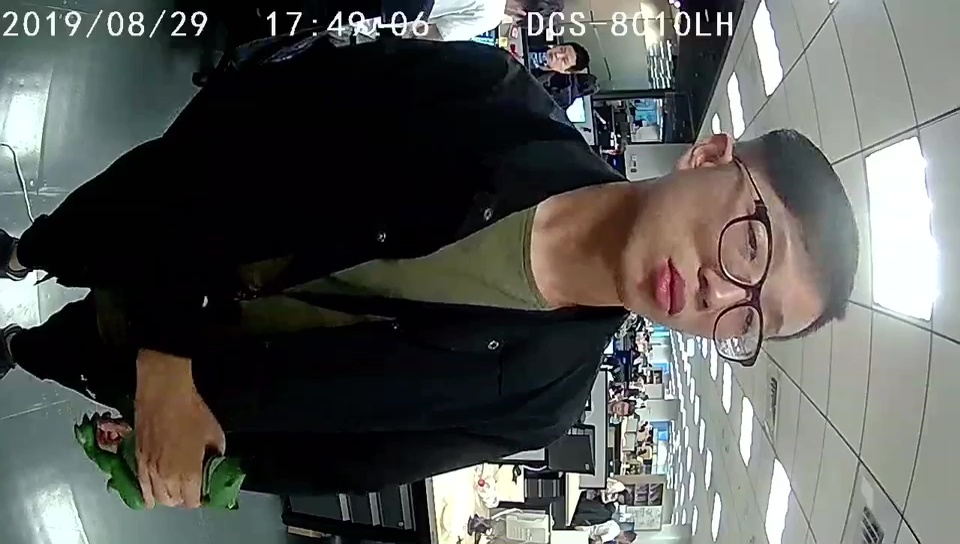rex: (76, 410, 246, 512)
